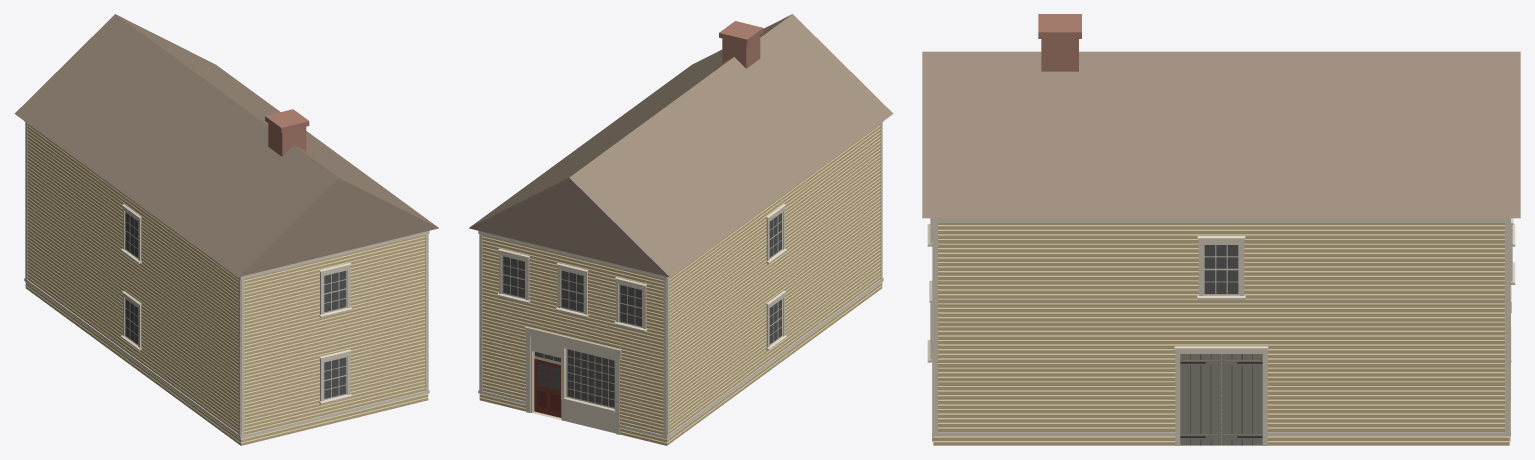
File: recon_1835_core_c3_016__inferred_1835.glb
3 views of the same model, side by side, from view 1: azimuth 30°, elevation 25°; view 2: azimuth 150°, elevation 25°; view 3: azimuth 270°, elevation 25° (orthographic). The views are drawn at different scales.
Parts seen in each view (by area): view 1: recon_1835_core_c3_016__inferred_1835; view 2: recon_1835_core_c3_016__inferred_1835; view 3: recon_1835_core_c3_016__inferred_1835.
Part boxes in pixels (x1,y1,x2,y2): recon_1835_core_c3_016__inferred_1835: [14, 14, 438, 445]; recon_1835_core_c3_016__inferred_1835: [469, 14, 893, 445]; recon_1835_core_c3_016__inferred_1835: [922, 14, 1520, 445].
Bounding box in the file's own units: 7.01 × 8.97 × 13.46.
